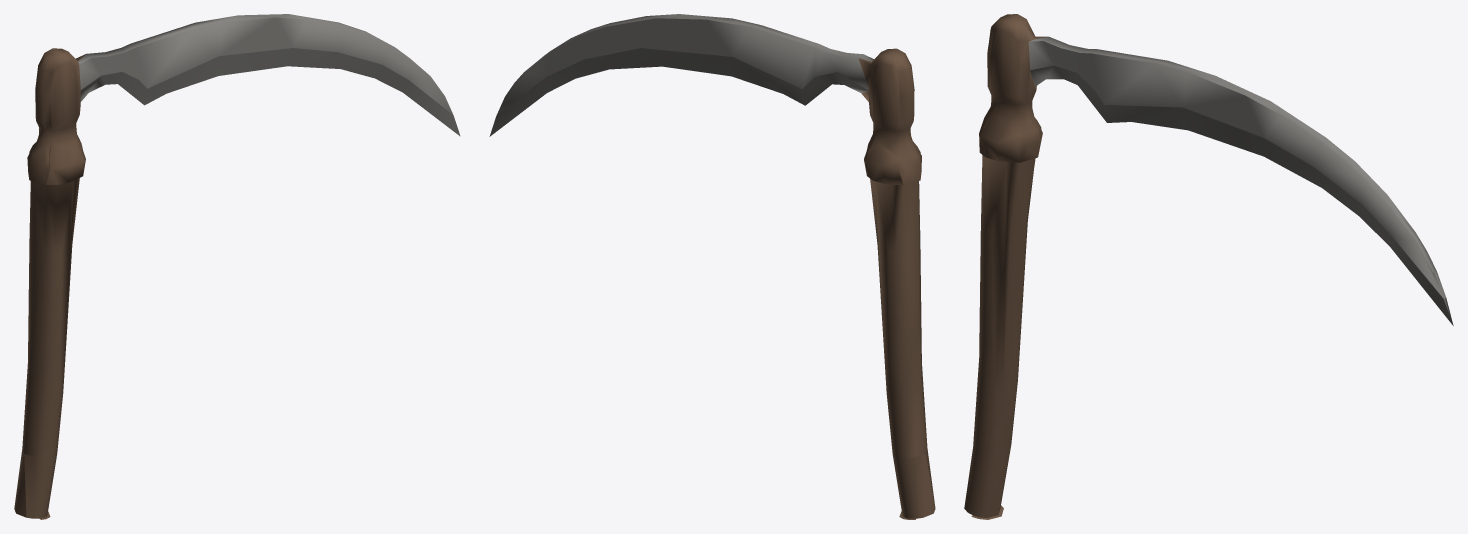
Rendered from Scythe.fbx.
The picture shows the model from 3 angles, left to right: view 1: azimuth 30°, elevation 25°; view 2: azimuth 150°, elevation 25°; view 3: azimuth 330°, elevation 25°; orthographic projection. The views are drawn at different scales.
Parts seen in each view (by area): view 1: Scythe; view 2: Scythe; view 3: Scythe.
Part boxes in pixels (bbox=[...]): Scythe: bbox=[14, 14, 460, 519]; Scythe: bbox=[489, 14, 935, 519]; Scythe: bbox=[964, 14, 1453, 519].
Bounding box in the file's own units: 7.04 × 6.91 × 0.6913.
